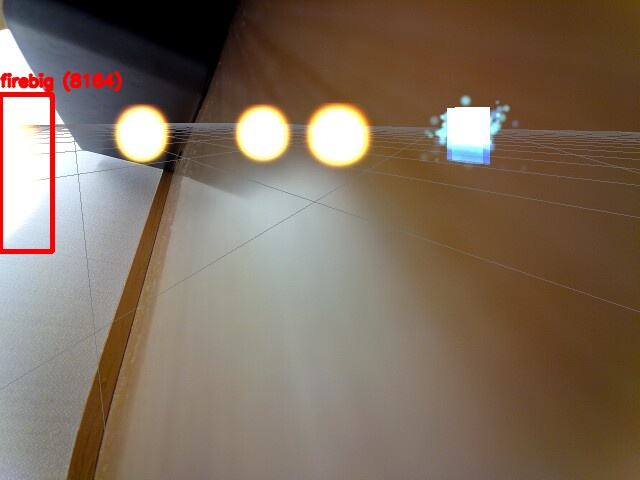firebig: (0, 94, 52, 251)
